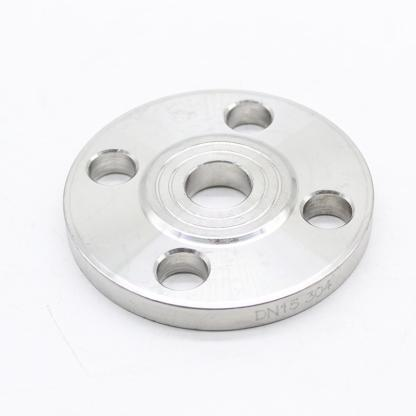FOD: (60, 84, 378, 334)
